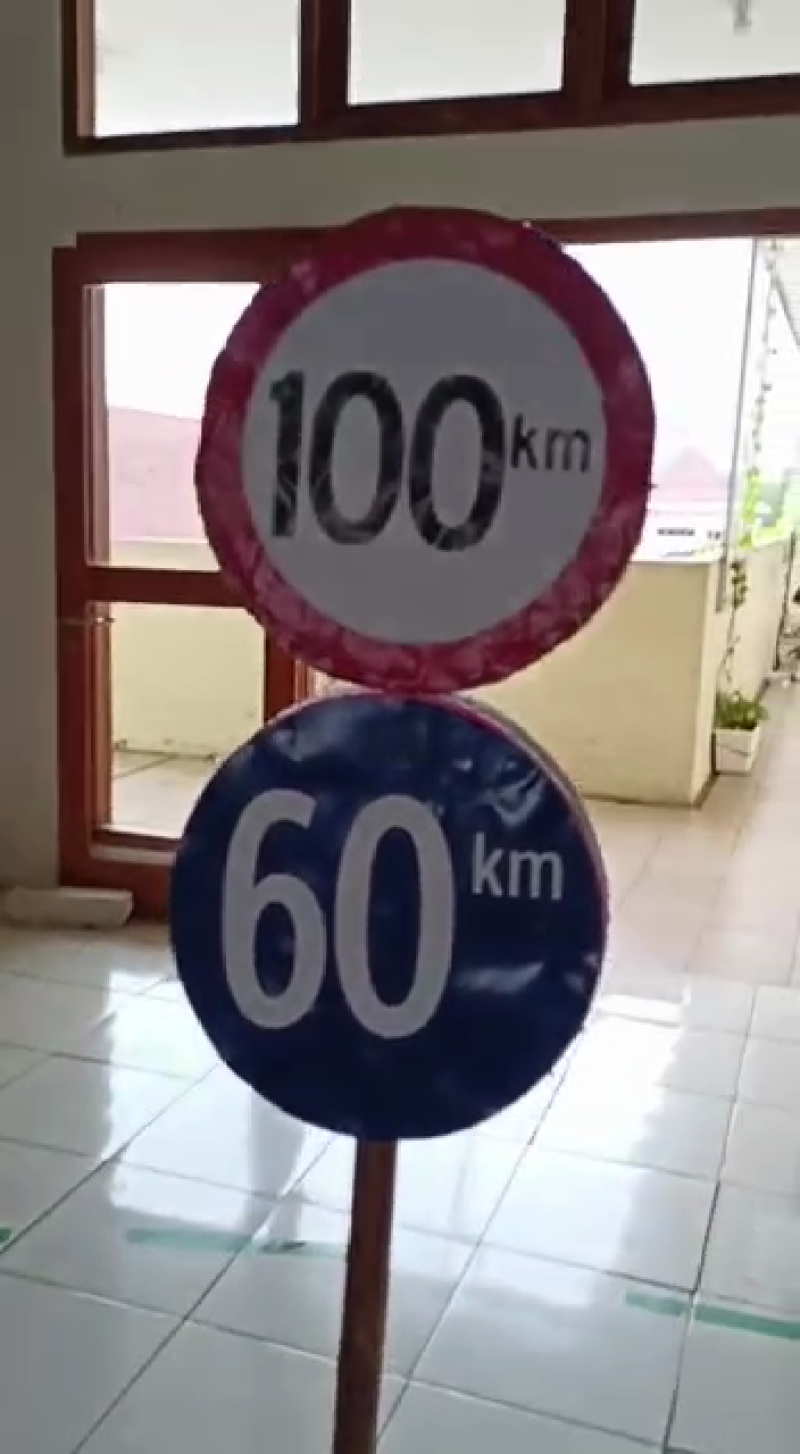batas maksimal 100kmperjam minimal 60kmperjam: (159, 177, 662, 1148)
